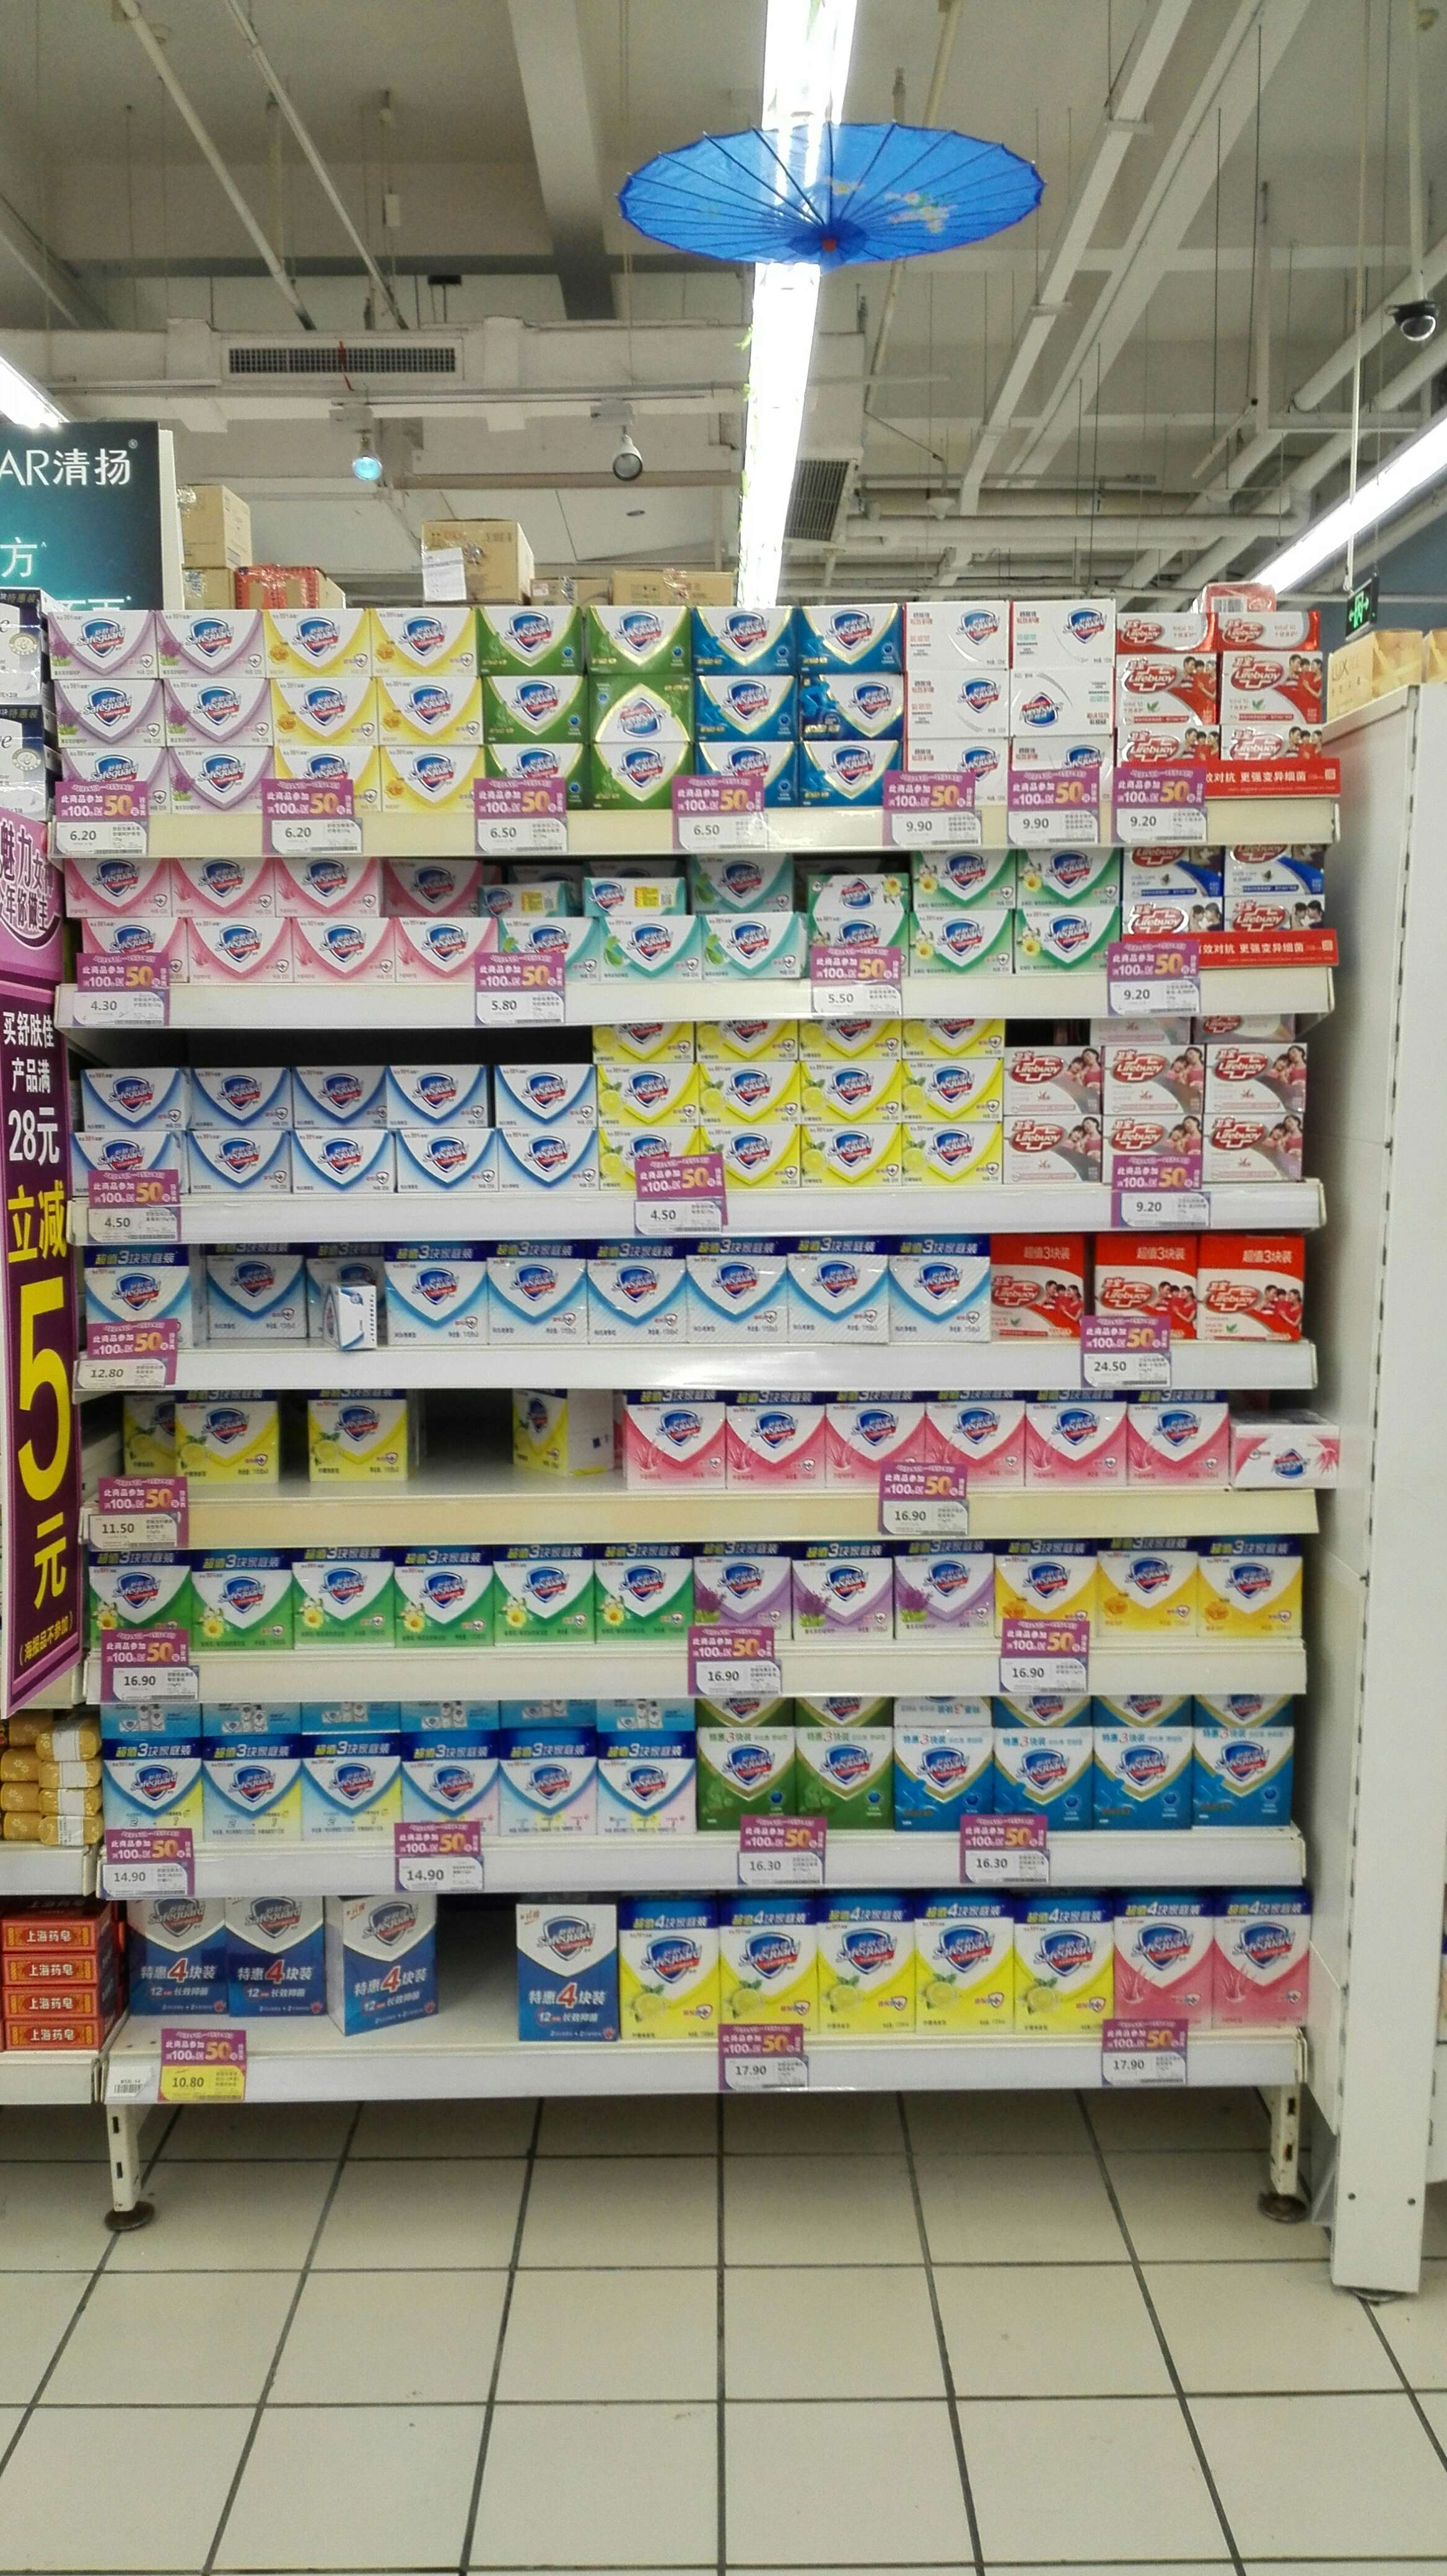Misplacement: (695, 855, 807, 980)
Out-of-stock: (416, 1391, 515, 1490)
